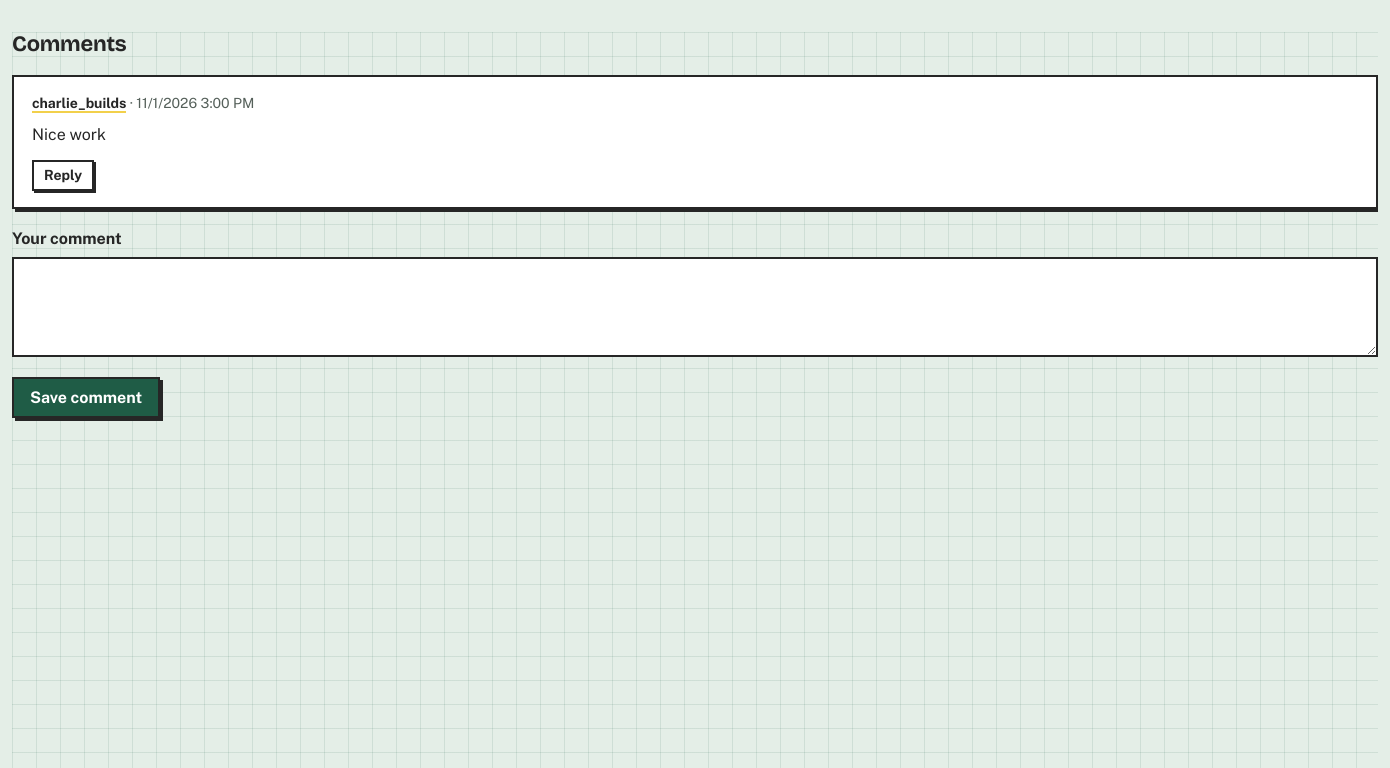
Test: the reply box names the person being replied to
The image size is (1390, 768).
Expected: the link "charlie_builds" is shown, [32,95,126,113]
What coordinates should you click on to do the following:
click the button "Reply"
I would click on:
 (63, 175)
Its box is [32,160,94,191].
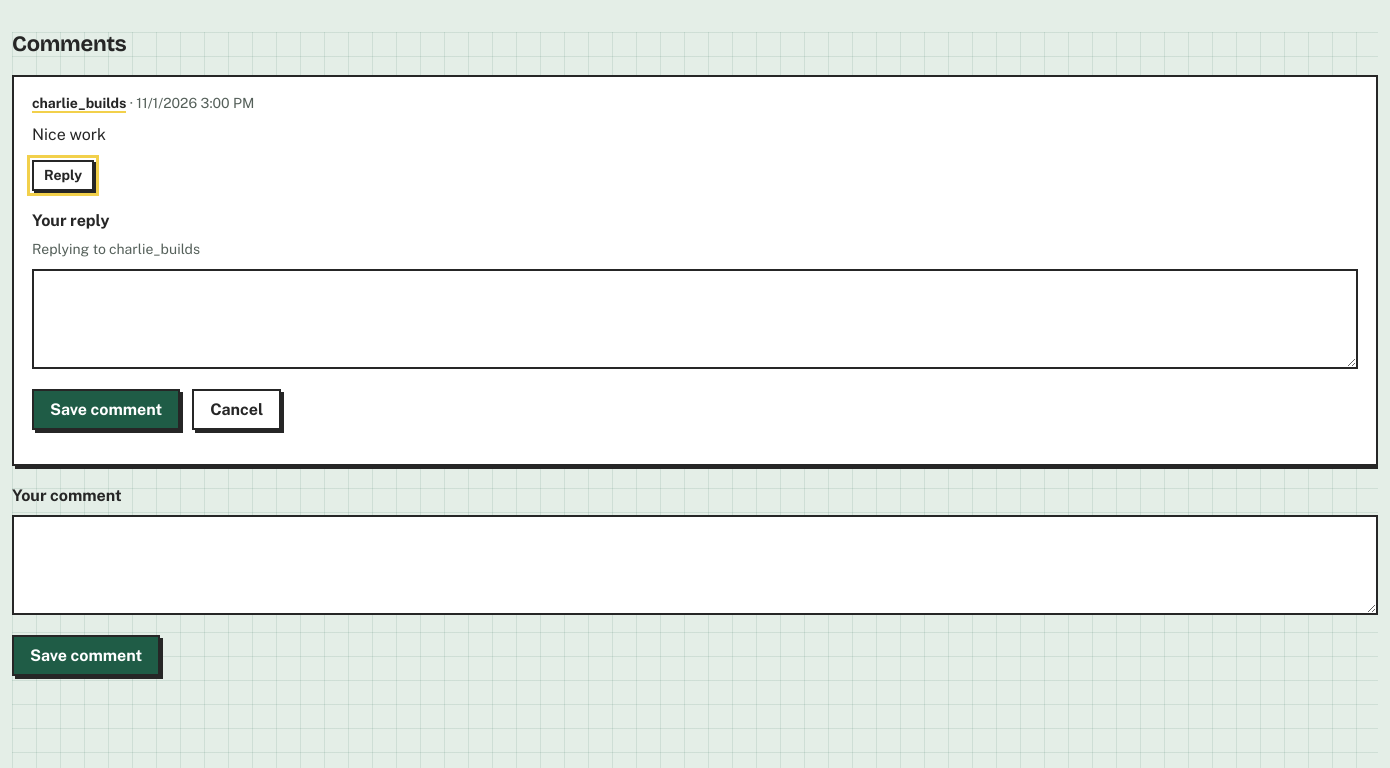
Now the text box labelled "Your reply" is shown, box [32,269,1358,369]
Now the text "Replying to charlie_builds" is shown, box [32,241,200,257]
